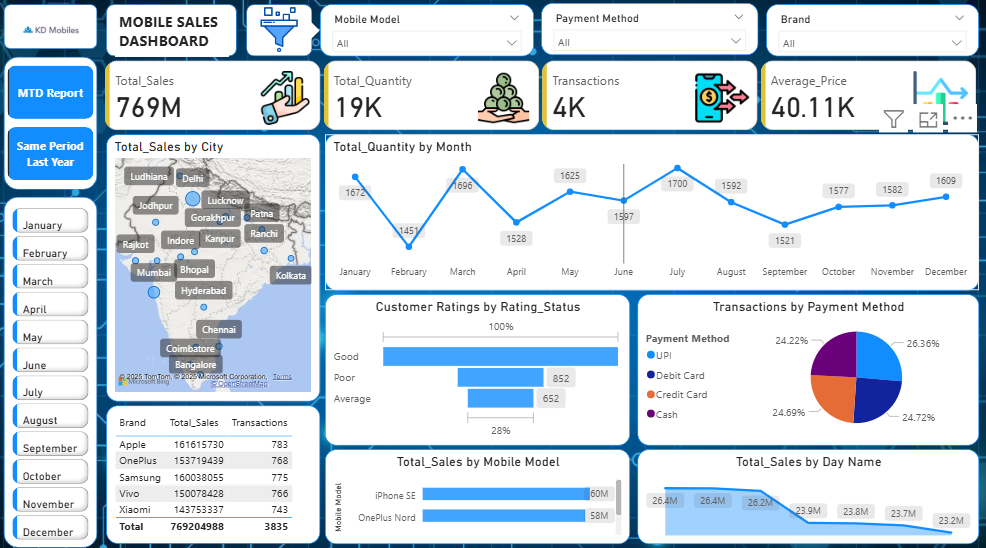

What the dashboard file says about the page in this screenshot:
{"tool":"powerbi","page":{"name":"Dashboard","canvas":[1280,720],"ordinal":0},"visuals":[{"type":"shape","box":[11,8.2,120.8,57.6],"z":0},{"type":"image","box":[11.3,0,121,75.8],"z":1000},{"type":"shape","box":[11,75.5,120.8,171.5],"z":2000},{"type":"shape","box":[11,256.6,120.8,452.8],"z":3000},{"type":"advancedSlicerVisual","fields":{"Values":["Custom_Calender.Date.Variation.Date Hierarchy.Month"]},"box":[17.8,266.2,108.4,443.2],"z":4000},{"type":"cardVisual","fields":{"Data":["Sales_Data.Total_Sales","Sales_Data.Total_Quantity","Sales_Data.Transactions","Sales_Data.Average_Price"]},"box":[137.1,75.7,1137.1,100],"z":5000},{"type":"slicer","fields":{"Values":["Sales_Data.Mobile Model"]},"box":[419.9,8.2,275.8,67.2],"z":6000},{"type":"slicer","fields":{"Values":["Sales_Data.Payment Method"]},"box":[705.3,6.9,279.9,67.2],"z":7000},{"type":"slicer","fields":{"Values":["Sales_Data.Brand"]},"box":[994.9,8.2,274.4,67.2],"z":8000},{"type":"shape","box":[323.8,8.2,85.1,67.2],"z":9000},{"type":"image","box":[323.8,6.9,85.1,68.6],"z":10000},{"type":"shape","box":[391.1,27.4,28.8,28.8],"z":11000},{"type":"shape","box":[142.9,8.6,168.6,67.1],"z":12000},{"type":"textbox","box":[154.3,12.9,147.1,62.9],"z":13000},{"type":"map","fields":{"Category":["Sales_Data.City"],"Size":["Sales_Data.Total_Sales"]},"box":[144.1,175.6,275.8,344.4],"z":14000},{"type":"lineChart","fields":{"Category":["Custom_Calender.Date.Variation.Date Hierarchy.Month"],"Y":["Sales_Data.Total_Quantity"]},"box":[425.4,175.6,843.9,201.7],"z":15000},{"type":"funnel","title":"Customer Ratings by Rating_Status","fields":{"Y":["CountNonNull(Sales_Data.Customer Ratings)"],"Category":["Sales_Data.Rating_Status"]},"box":[425.4,381.5,393.8,194.9],"z":16000},{"type":"pieChart","fields":{"Y":["Sales_Data.Transactions"],"Category":["Sales_Data.Payment Method"]},"box":[828.8,381.5,440.5,194.9],"z":17000},{"type":"clusteredBarChart","fields":{"Y":["Sales_Data.Total_Sales"],"Category":["Sales_Data.Mobile Model"]},"box":[425.4,581.8,393.8,122.1],"z":18000},{"type":"areaChart","fields":{"Category":["Custom_Calender.Day Name"],"Y":["Sales_Data.Total_Sales"]},"box":[828.8,581.8,440.5,122.1],"z":19000},{"type":"tableEx","fields":{"Values":["Sales_Data.Brand","Sales_Data.Total_Sales","Sales_Data.Transactions"]},"box":[144.1,525.6,275.8,178.4],"z":20000},{"type":"pageNavigator","box":[16.1,87.1,111.3,148.4],"z":20001}]}

Visuals, with their boxes in screenshot pixels (x1, y1, x2, y2), scaled from the page's 1280x720 canvas onto the 986x548 screenshot:
shape: l=8, t=6, r=102, b=50
image: l=9, t=0, r=102, b=58
shape: l=8, t=57, r=102, b=188
shape: l=8, t=195, r=102, b=540
advancedSlicerVisual - Custom_Calender.Date.Variation.Date Hierarchy.Month: l=14, t=203, r=97, b=540
cardVisual - Sales_Data.Total_Sales x Sales_Data.Total_Quantity: l=106, t=58, r=982, b=134
slicer - Sales_Data.Mobile Model: l=323, t=6, r=536, b=57
slicer - Sales_Data.Payment Method: l=543, t=5, r=759, b=56
slicer - Sales_Data.Brand: l=766, t=6, r=978, b=57
shape: l=249, t=6, r=315, b=57
image: l=249, t=5, r=315, b=57
shape: l=301, t=21, r=323, b=43
shape: l=110, t=7, r=240, b=58
textbox: l=119, t=10, r=232, b=58
map - Sales_Data.City x Sales_Data.Total_Sales: l=111, t=134, r=323, b=396
lineChart - Custom_Calender.Date.Variation.Date Hierarchy.Month x Sales_Data.Total_Quantity: l=328, t=134, r=978, b=287
"Customer Ratings by Rating_Status" funnel: l=328, t=290, r=631, b=439
pieChart - Sales_Data.Transactions x Sales_Data.Payment Method: l=638, t=290, r=978, b=439
clusteredBarChart - Sales_Data.Total_Sales x Sales_Data.Mobile Model: l=328, t=443, r=631, b=536
areaChart - Custom_Calender.Day Name x Sales_Data.Total_Sales: l=638, t=443, r=978, b=536
tableEx - Sales_Data.Brand x Sales_Data.Total_Sales: l=111, t=400, r=323, b=536
pageNavigator: l=12, t=66, r=98, b=179
